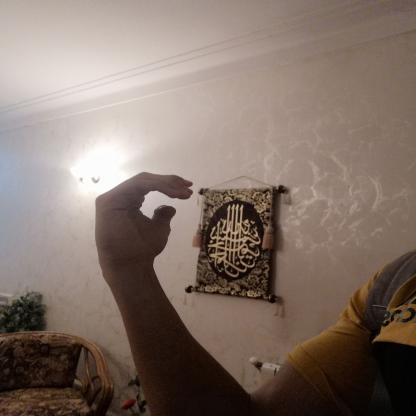JEEM: (83, 160, 206, 278)
